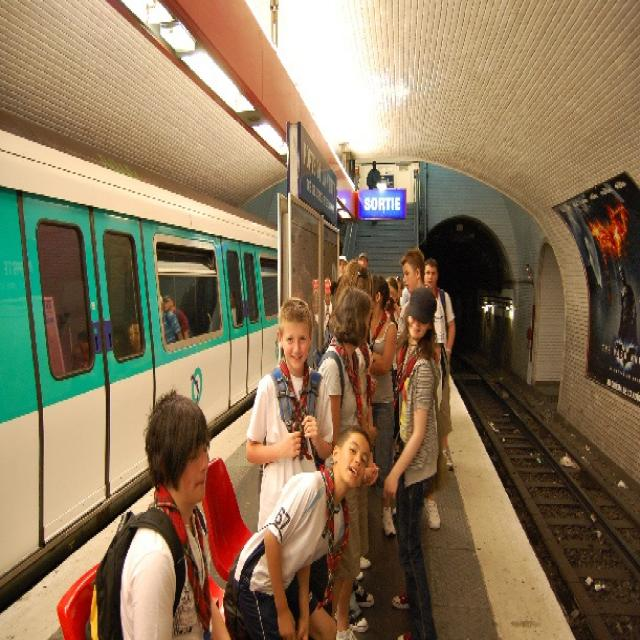body: (84, 387, 232, 640), (221, 424, 375, 638), (379, 284, 442, 638), (313, 286, 376, 635), (244, 294, 335, 532), (311, 258, 376, 570), (52, 281, 274, 368), (396, 245, 446, 531), (304, 236, 410, 366), (593, 222, 639, 402), (364, 275, 400, 491), (423, 258, 457, 474), (389, 365, 402, 531), (366, 160, 382, 191)
